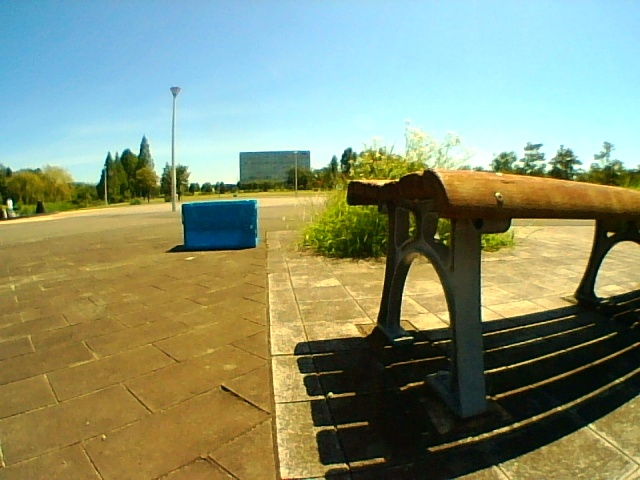blue_box: (185, 202, 256, 248)
